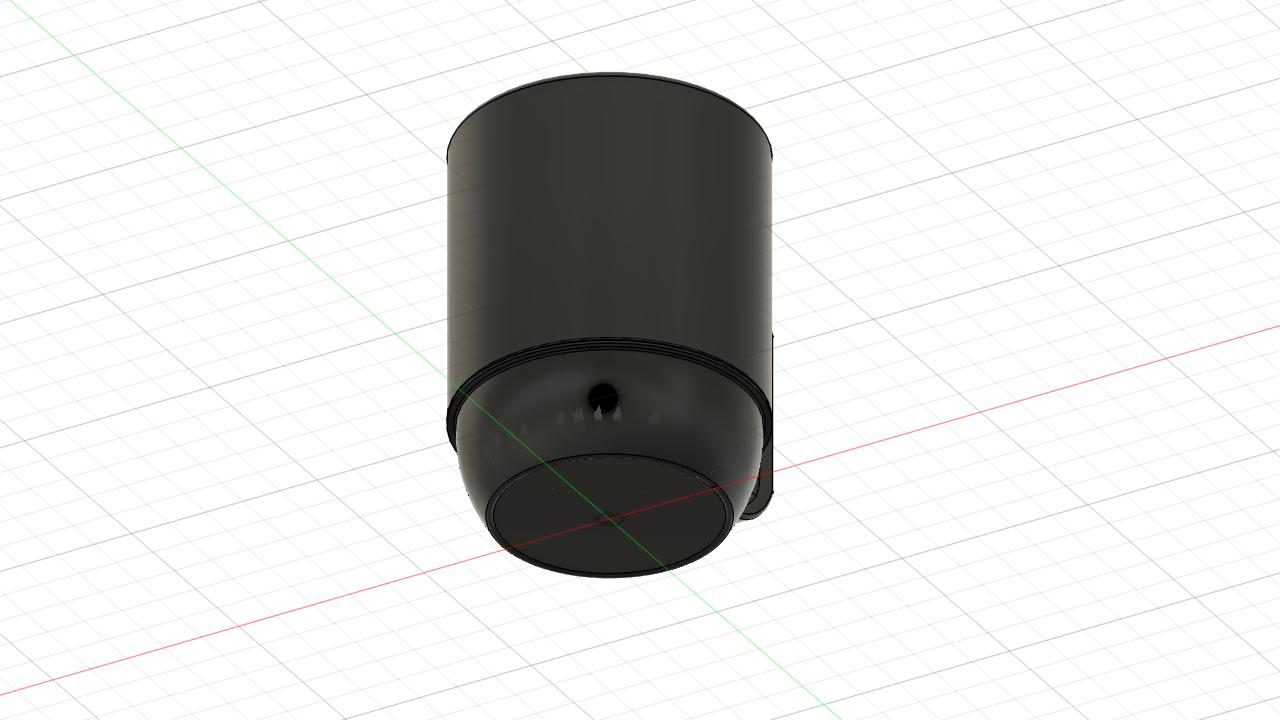mug-real100-3d100: (446, 74, 771, 577)
